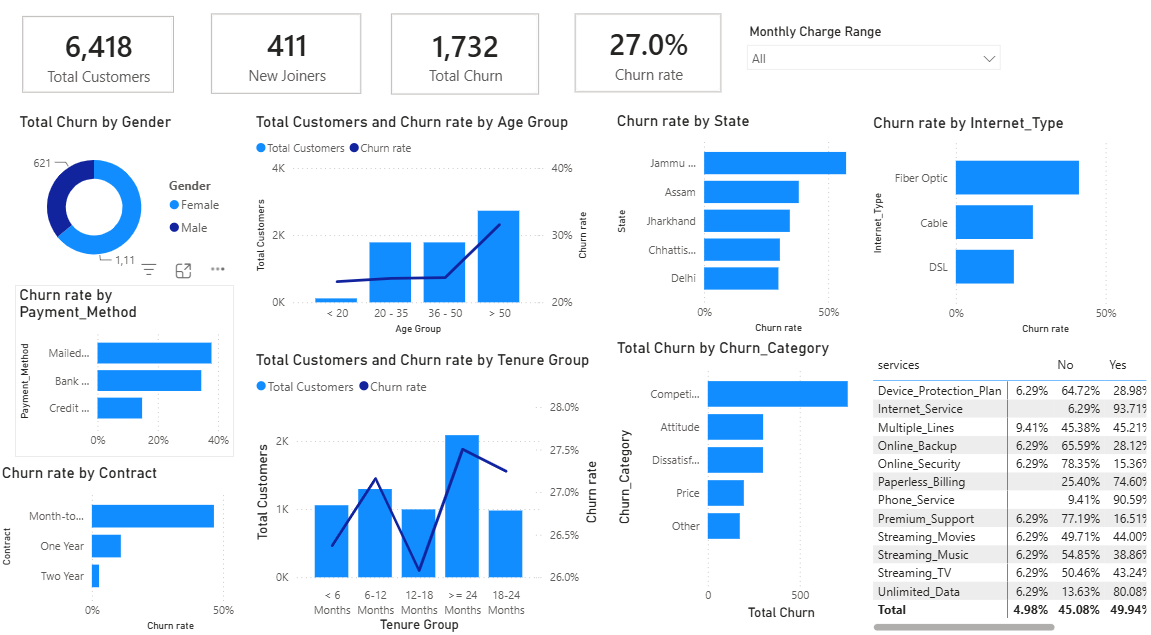

The dashboard page shown, as its layout file describes it:
{"tool":"powerbi","page":{"name":"Summary","canvas":[1280,720],"ordinal":0},"visuals":[{"type":"cardVisual","fields":{"Data":["TBL_Measures.Total Customers"]},"box":[32.9,31.6,182.5,100.2],"z":0},{"type":"cardVisual","fields":{"Data":["TBL_Measures.Churn rate"]},"box":[639.5,28.8,177,102.9],"z":1000},{"type":"cardVisual","fields":{"Data":["TBL_Measures.New Joiners"]},"box":[240.1,28.8,181.1,104.3],"z":2000},{"type":"cardVisual","fields":{"Data":["TBL_Measures.Total Churn"]},"box":[437.7,28.8,178.4,105.7],"z":3000},{"type":"donutChart","fields":{"Category":["db_churn customer_data_cleaned.Gender"],"Y":["TBL_Measures.Total Churn"]},"box":[32.3,145.5,240.1,189.1],"z":4000},{"type":"clusteredBarChart","fields":{"Category":["db_churn customer_data_cleaned.Payment_Method"],"Y":["TBL_Measures.Churn rate"]},"box":[33.6,334.6,240.1,189.1],"z":5000},{"type":"clusteredBarChart","fields":{"Category":["db_churn customer_data_cleaned.Contract"],"Y":["TBL_Measures.Churn rate"]},"box":[13.7,531.2,293.6,189.1],"z":6000},{"type":"lineStackedColumnComboChart","fields":{"Category":["mapping_agr_grp.Age Group"],"Y":["TBL_Measures.Total Customers"],"Y2":["TBL_Measures.Churn rate"]},"box":[292.3,145.5,376,248.4],"z":7000},{"type":"lineStackedColumnComboChart","fields":{"Category":["mapping_tenure_grp.Tenure Group"],"Y":["TBL_Measures.Total Customers"],"Y2":["TBL_Measures.Churn rate"]},"box":[292.3,406.2,387,314.2],"z":8000},{"type":"clusteredBarChart","fields":{"Category":["db_churn customer_data_cleaned.State"],"Y":["TBL_Measures.Churn rate"]},"box":[688.9,144.1,281.3,248.4],"z":9000},{"type":"clusteredBarChart","fields":{"Category":["db_churn customer_data_cleaned.Churn_Category"],"Y":["TBL_Measures.Total Churn"]},"box":[688.9,393.8,281.3,314.2],"z":10000},{"type":"clusteredBarChart","fields":{"Category":["db_churn customer_data_cleaned.Internet_Type"],"Y":["TBL_Measures.Churn rate"]},"box":[970.2,146.8,310.1,247],"z":11000},{"type":"pivotTable","fields":{"Rows":["services.services"],"Columns":["services.status"],"Values":["Sum(services.Churn Status)"]},"box":[970,406,310,314],"z":12000},{"type":"slicer","fields":{"Values":["services.Monthly Charge Status"]},"box":[826.1,42.5,299.1,75.5],"z":13000}]}

Visuals, with their boxes in screenshot pixels (x1, y1, x2, y2), scaled from the page's 1280x720 canvas onto the 1151x635 screenshot:
cardVisual - TBL_Measures.Total Customers: pyautogui.locateOnScreen(30, 28, 194, 116)
cardVisual - TBL_Measures.Churn rate: pyautogui.locateOnScreen(575, 25, 734, 116)
cardVisual - TBL_Measures.New Joiners: pyautogui.locateOnScreen(216, 25, 379, 117)
cardVisual - TBL_Measures.Total Churn: pyautogui.locateOnScreen(394, 25, 554, 119)
donutChart - db_churn customer_data_cleaned.Gender x TBL_Measures.Total Churn: pyautogui.locateOnScreen(29, 128, 245, 295)
clusteredBarChart - db_churn customer_data_cleaned.Payment_Method x TBL_Measures.Churn rate: pyautogui.locateOnScreen(30, 295, 246, 462)
clusteredBarChart - db_churn customer_data_cleaned.Contract x TBL_Measures.Churn rate: pyautogui.locateOnScreen(12, 468, 276, 634)
lineStackedColumnComboChart - mapping_agr_grp.Age Group x TBL_Measures.Total Customers: pyautogui.locateOnScreen(263, 128, 601, 347)
lineStackedColumnComboChart - mapping_tenure_grp.Tenure Group x TBL_Measures.Total Customers: pyautogui.locateOnScreen(263, 358, 611, 634)
clusteredBarChart - db_churn customer_data_cleaned.State x TBL_Measures.Churn rate: pyautogui.locateOnScreen(619, 127, 872, 346)
clusteredBarChart - db_churn customer_data_cleaned.Churn_Category x TBL_Measures.Total Churn: pyautogui.locateOnScreen(619, 347, 872, 624)
clusteredBarChart - db_churn customer_data_cleaned.Internet_Type x TBL_Measures.Churn rate: pyautogui.locateOnScreen(872, 129, 1150, 347)
pivotTable - services.services x services.status: pyautogui.locateOnScreen(872, 358, 1150, 634)
slicer - services.Monthly Charge Status: pyautogui.locateOnScreen(743, 37, 1012, 104)
